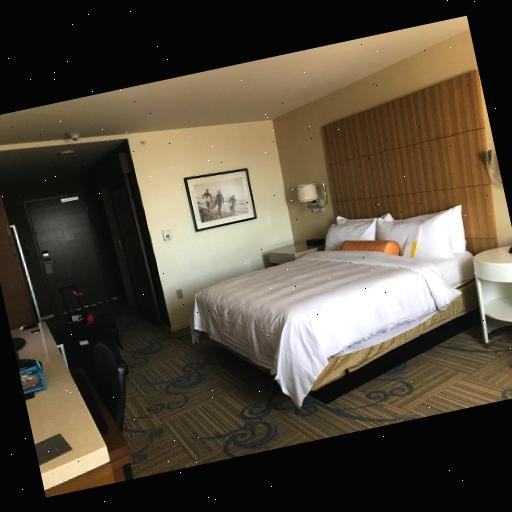clean_bed: (190, 73, 493, 403)
clean_floor: (113, 306, 512, 475)
organised_pillow: (322, 203, 472, 263)
